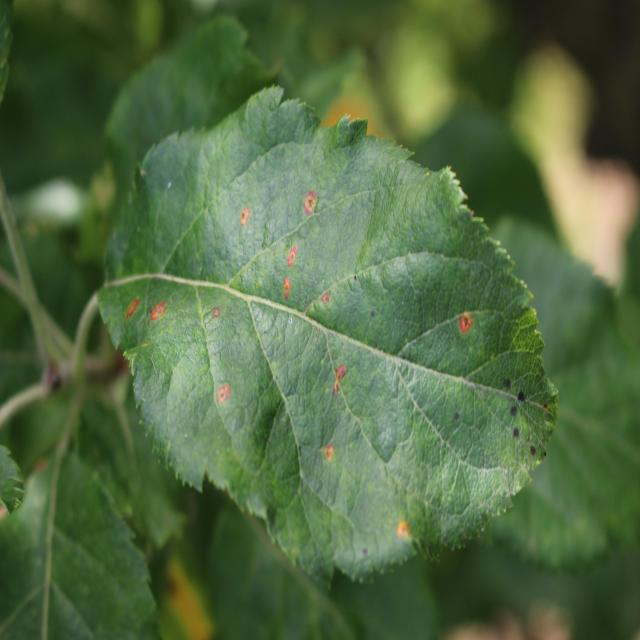Rust: (388, 498, 422, 556), (205, 365, 238, 417), (320, 351, 356, 398), (451, 297, 482, 350), (264, 273, 303, 312), (230, 195, 261, 242), (310, 272, 338, 314), (314, 434, 344, 473), (296, 191, 330, 224), (275, 243, 308, 276), (146, 297, 173, 332), (128, 286, 148, 324), (200, 300, 231, 322)
